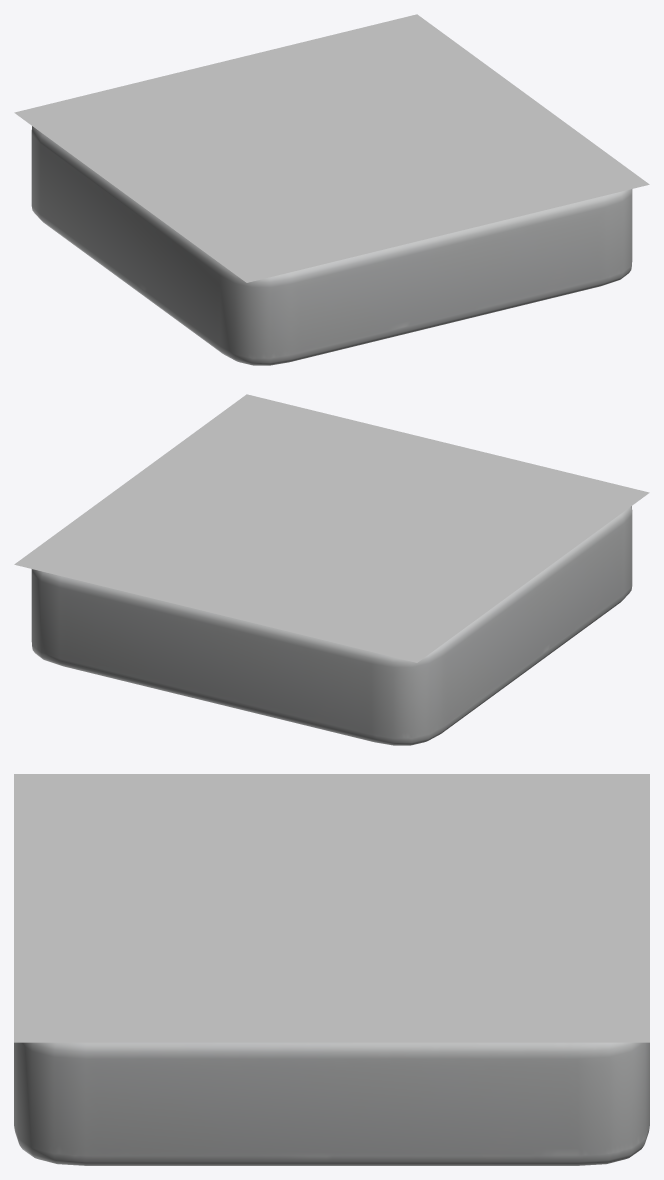
File: ConveyerBelt.fbx
3 views of the same model, one above another, from view 1: azimuth 30°, elevation 25°; view 2: azimuth 150°, elevation 25°; view 3: azimuth 270°, elevation 25° (orthographic). The views are drawn at different scales.
Parts seen in each view (by area): view 1: ConveyerBelt; view 2: ConveyerBelt; view 3: ConveyerBelt.
Boxes of the visible parts, bbox=[...] form: ConveyerBelt: bbox=[14, 14, 649, 365]; ConveyerBelt: bbox=[14, 394, 649, 745]; ConveyerBelt: bbox=[14, 774, 649, 1165].
Size of the model in its own units: 450 by 100 by 450.
